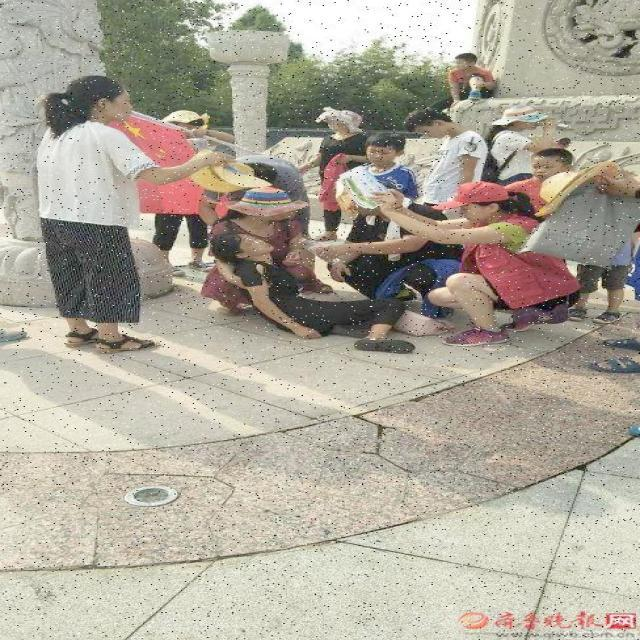fall: (230, 241, 388, 349)
